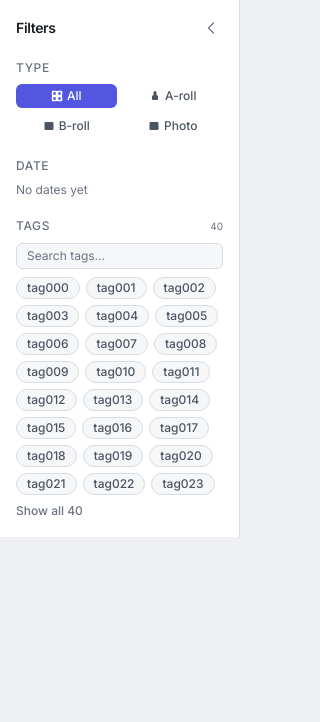
Test: Filters › caps a long tag list and reveals the rest via "Show all"
Check: the button "tag000" is shown, box x1=16 y1=277 x2=80 y2=299
Check: the button "tag030" is not shown
Click the button "Show all 40": (49, 511) x1=16 y1=503 x2=83 y2=519
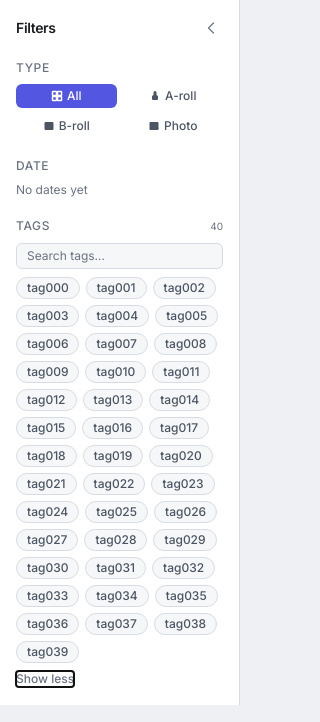
Check: the button "tag030" is shown, box x1=16 y1=557 x2=79 y2=579
